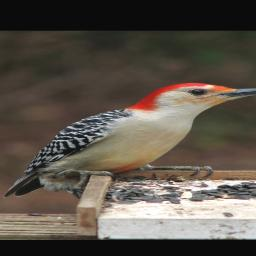Woodpecker: (0, 83, 256, 199)
